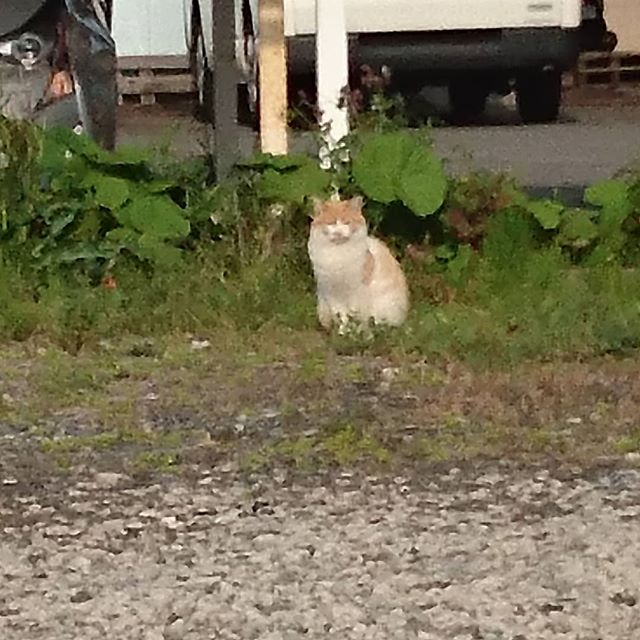animal: (295, 203, 422, 338)
